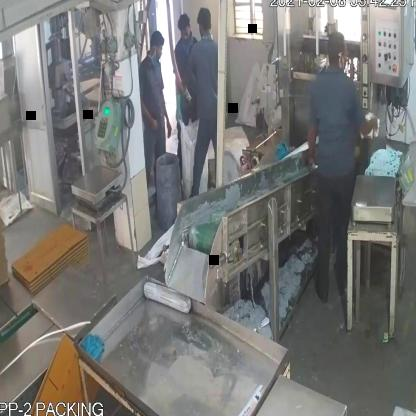no_glove: (352, 102, 390, 139), (302, 112, 318, 169)
